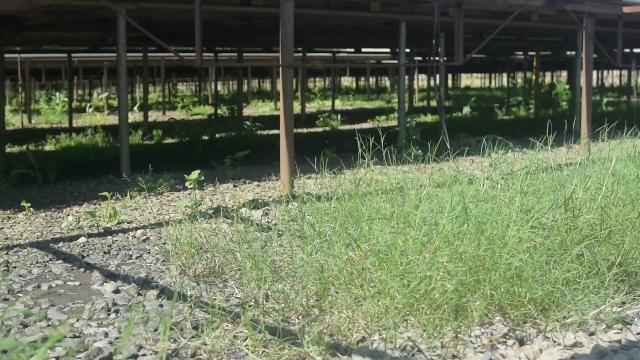MalezaMontesDelPlata: (503, 115, 640, 330), (369, 149, 500, 338), (247, 196, 365, 360), (161, 221, 246, 292), (179, 163, 215, 224), (85, 185, 120, 239), (122, 166, 171, 200), (217, 143, 254, 184), (16, 191, 34, 219)
